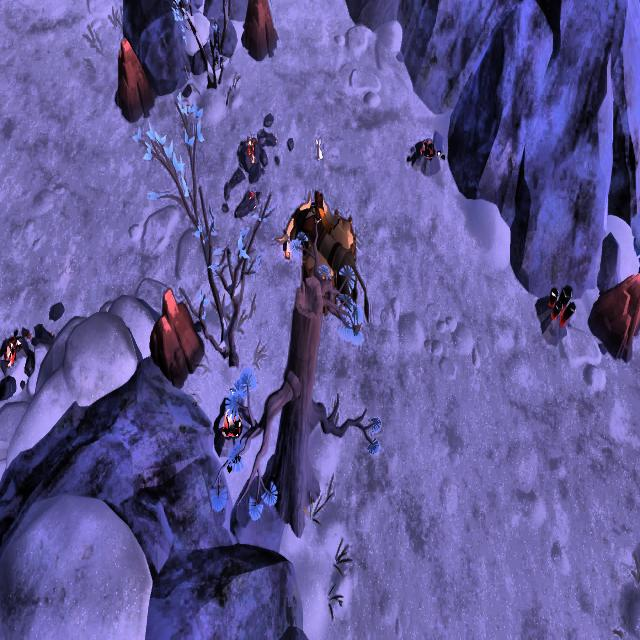ore_t5: (546, 281, 578, 325)
rock_t5: (144, 288, 206, 391), (584, 271, 640, 365), (113, 36, 154, 123), (239, 0, 279, 61)
